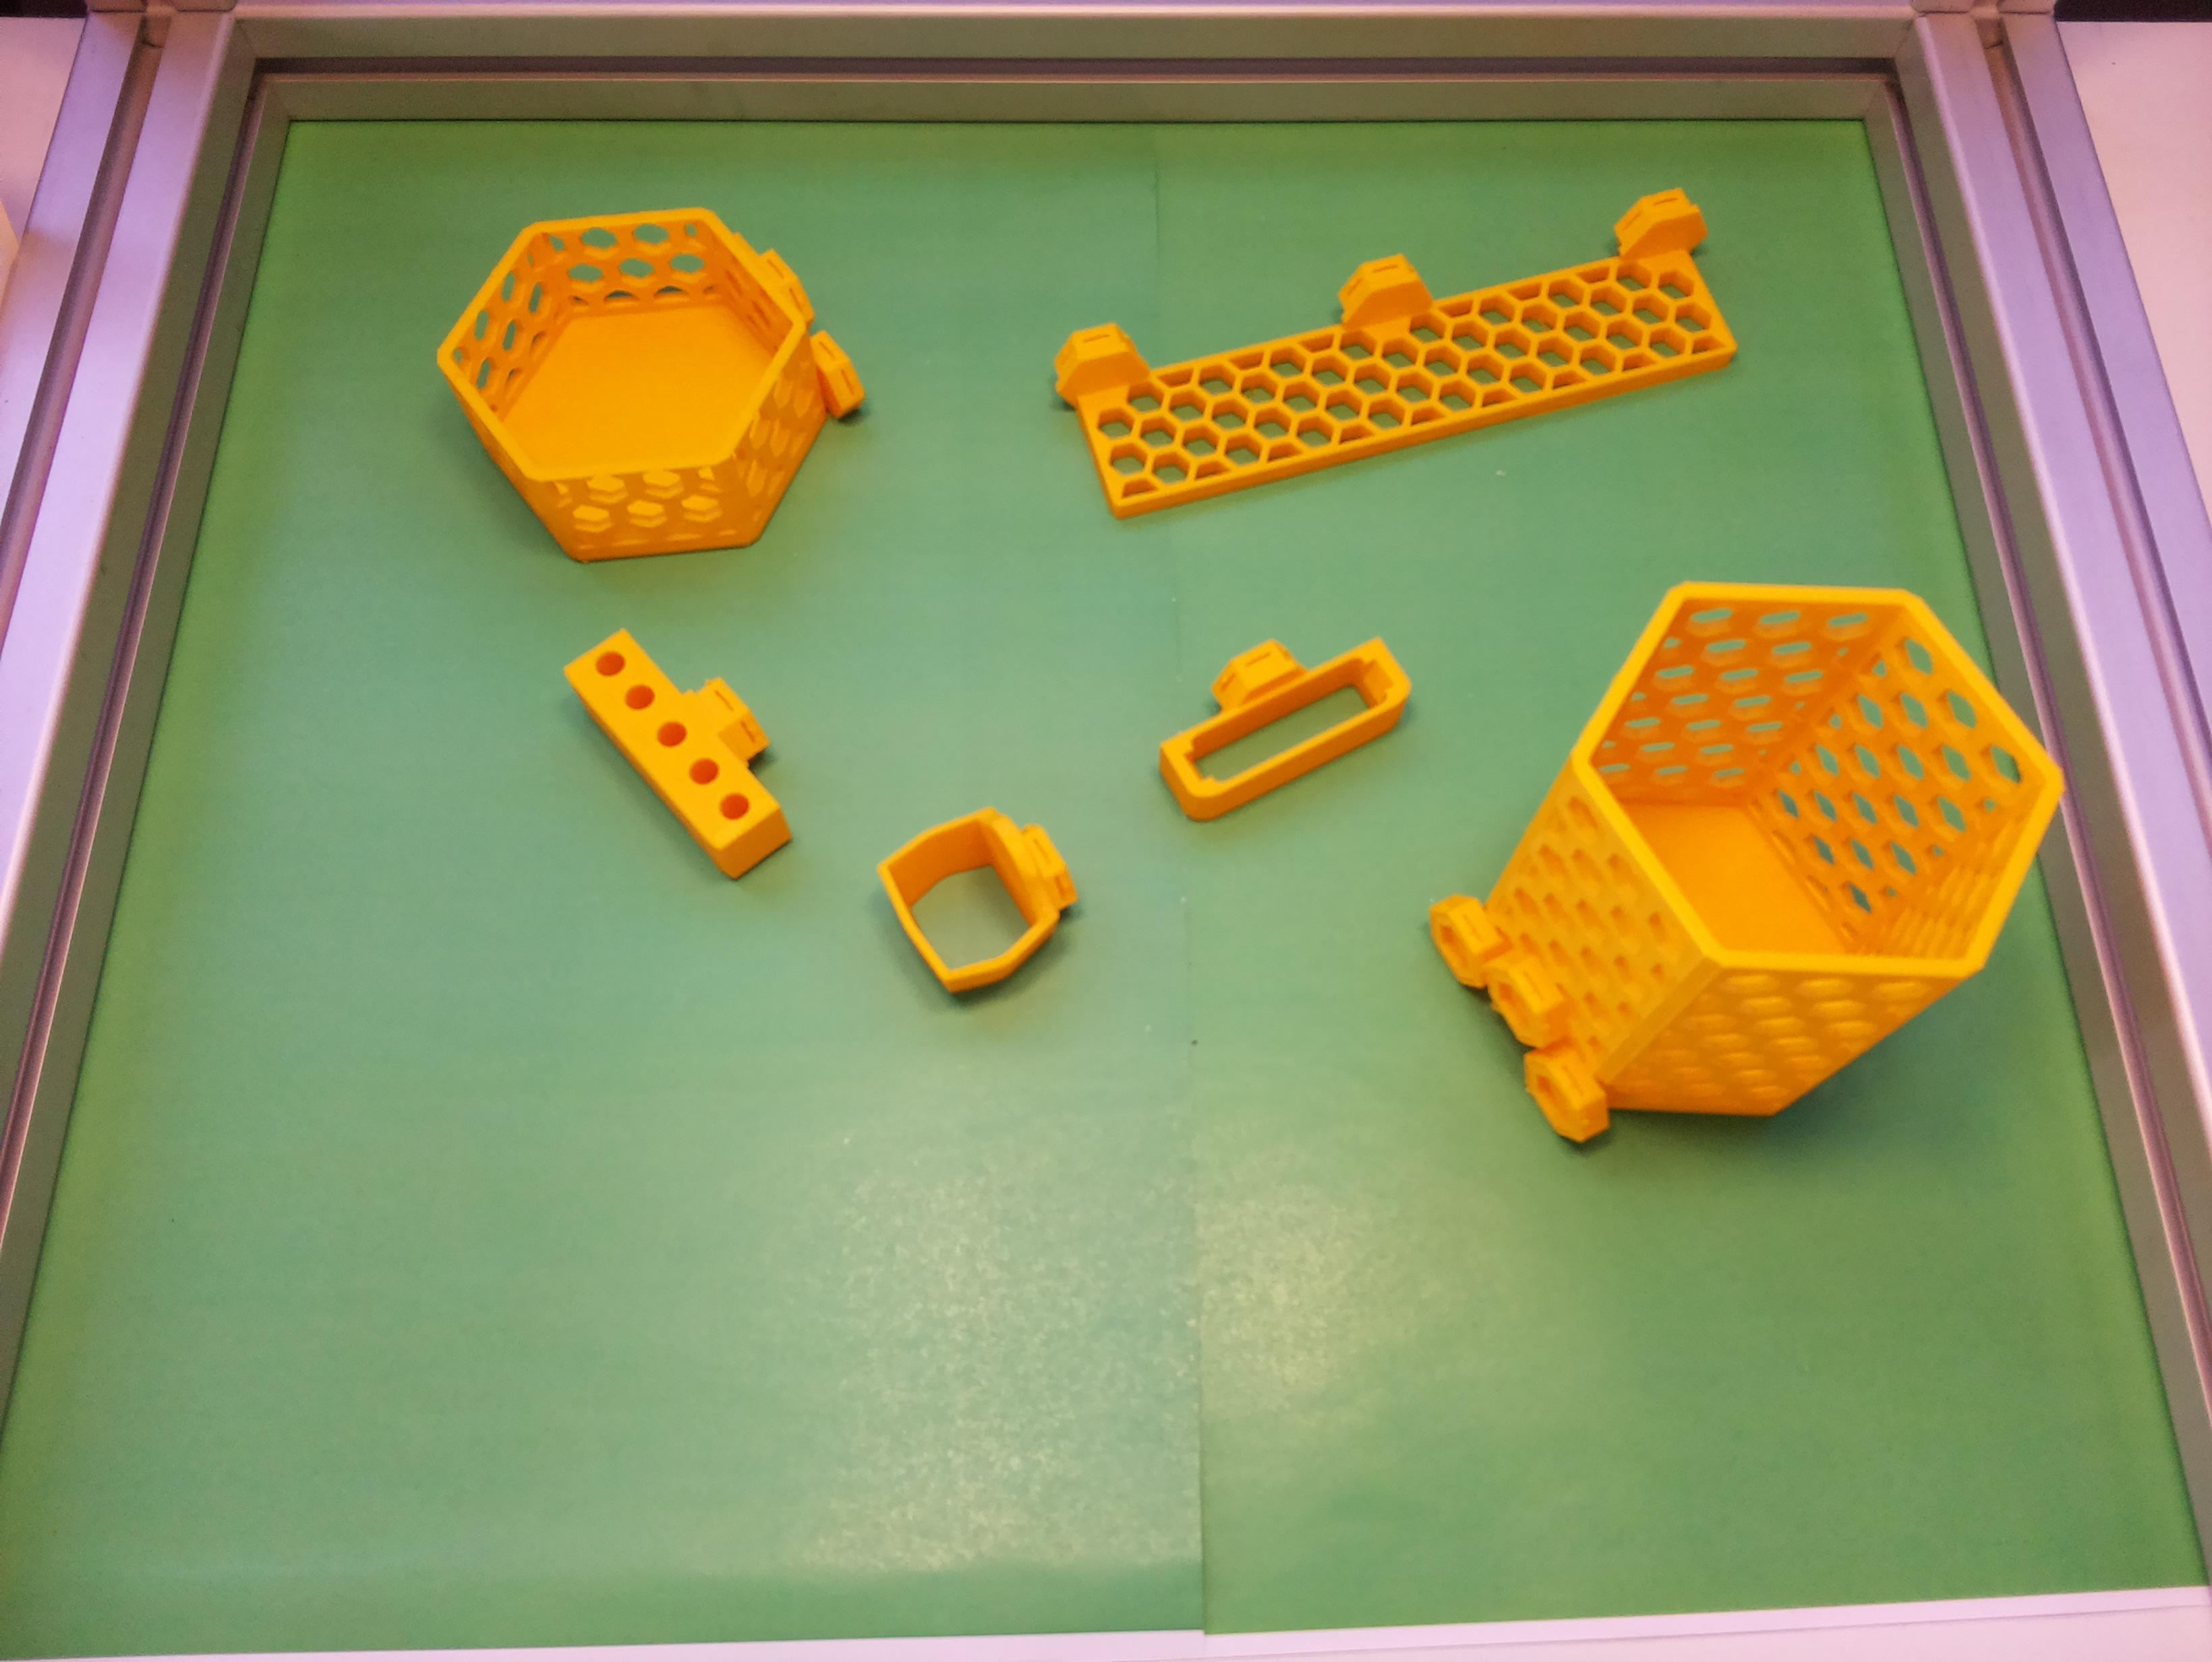bit_holder: (559, 594, 826, 890)
bottle_holder: (393, 115, 908, 635)
cup_holder: (1339, 468, 2126, 1224)
cutter_holder: (1131, 594, 1425, 831)
scissor_holder: (864, 777, 1100, 1011)
tool_holder: (1046, 180, 1741, 525)
